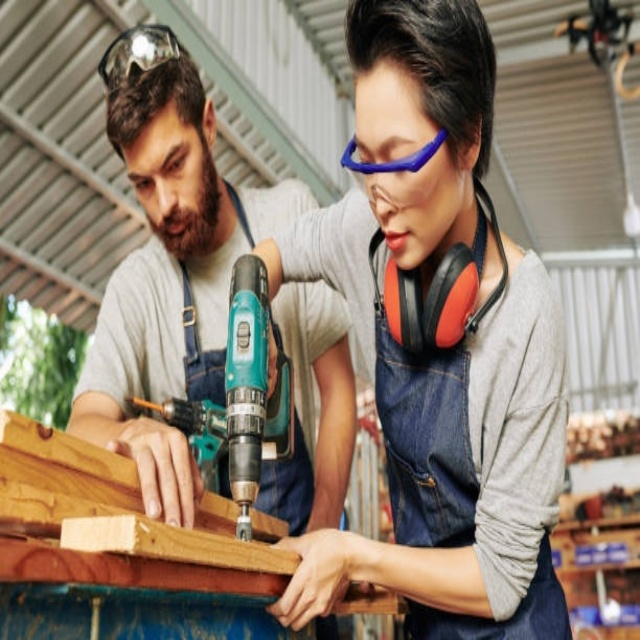Gafas: (341, 125, 448, 215)
Sin_gafas: (130, 127, 191, 201)
Sin_guantes: (106, 419, 204, 529), (263, 528, 362, 631)
Sin_mascara: (379, 218, 427, 267), (154, 207, 198, 254)
